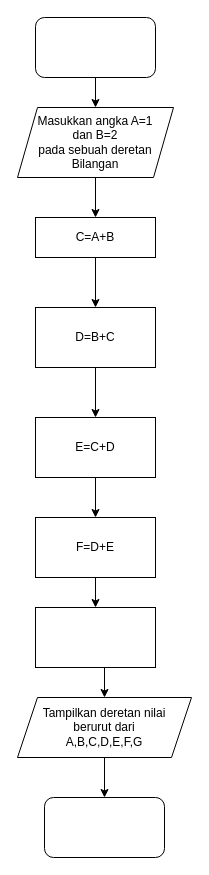
This 209x875 diagram has some shape labels left out. The shapes that lost their labels are listed below. From the top down, each one's centre as x and y in pixels, then its label:
At (x=95, y=47): "BEGIN".
At (x=95, y=637): "G=E+F".
At (x=104, y=827): "END".
